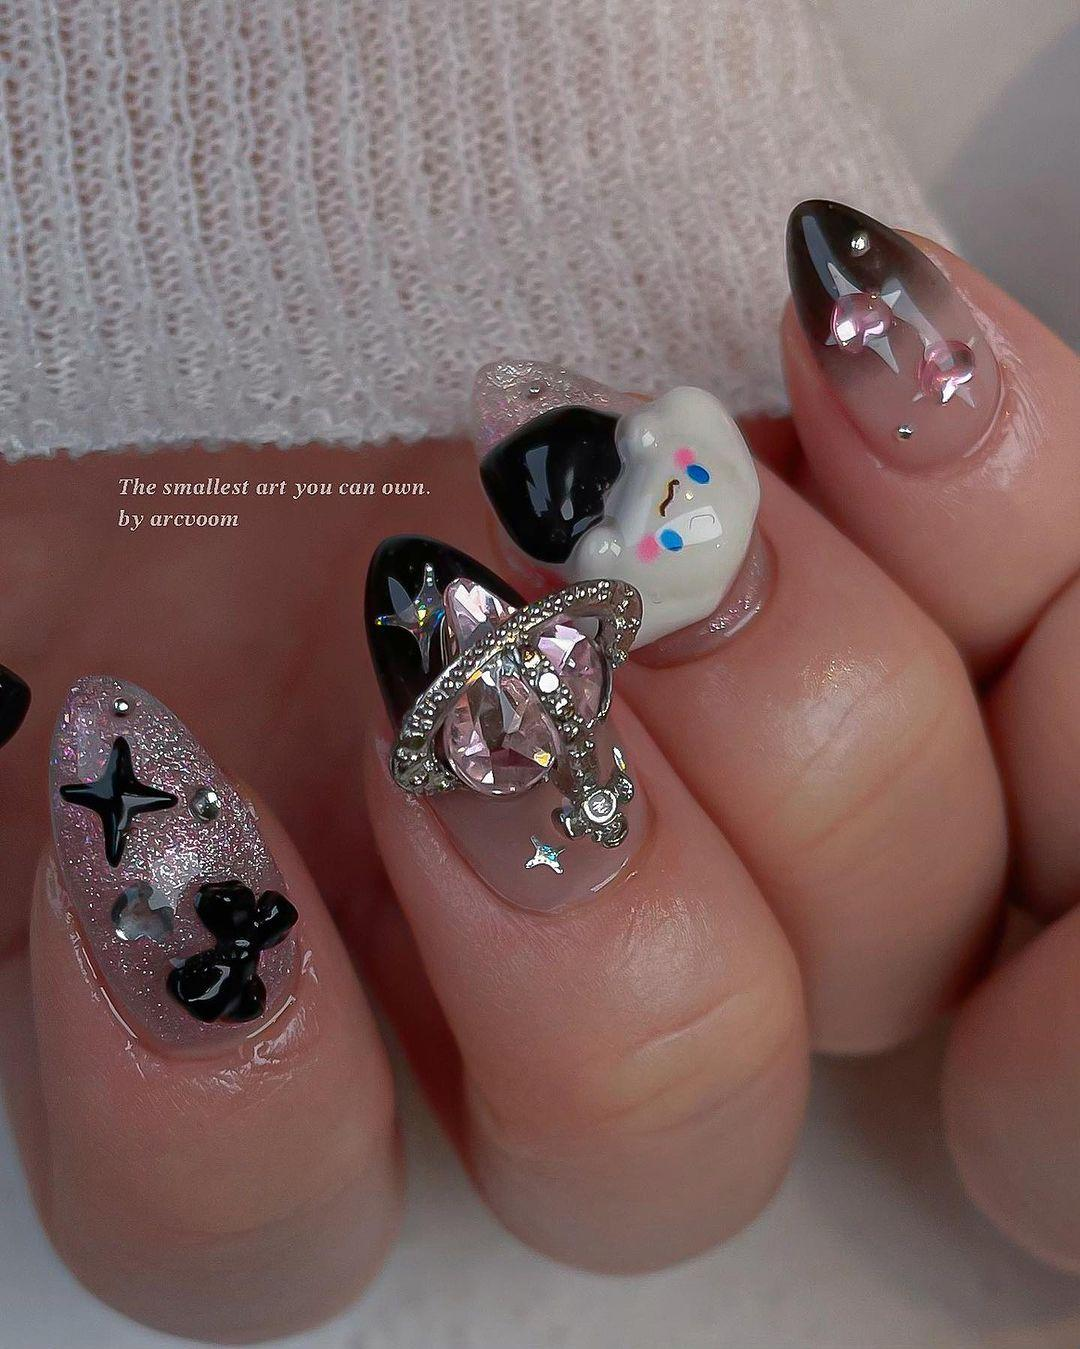nail: (777, 196, 1078, 681), (361, 532, 646, 915), (50, 677, 295, 1046), (474, 361, 770, 663)
